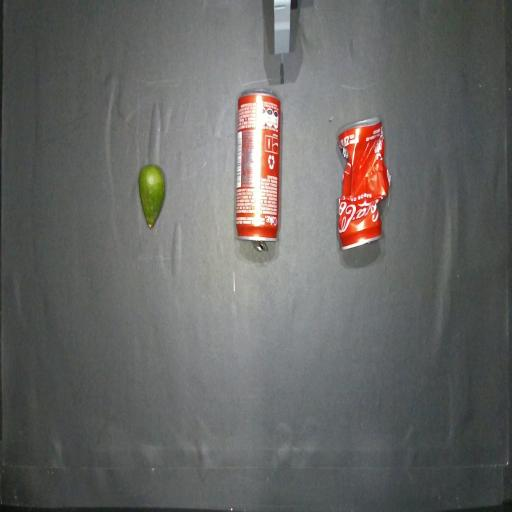higo: (139, 165, 165, 227)
lata: (235, 89, 282, 251)
lata_defectuoso: (338, 118, 390, 249)
